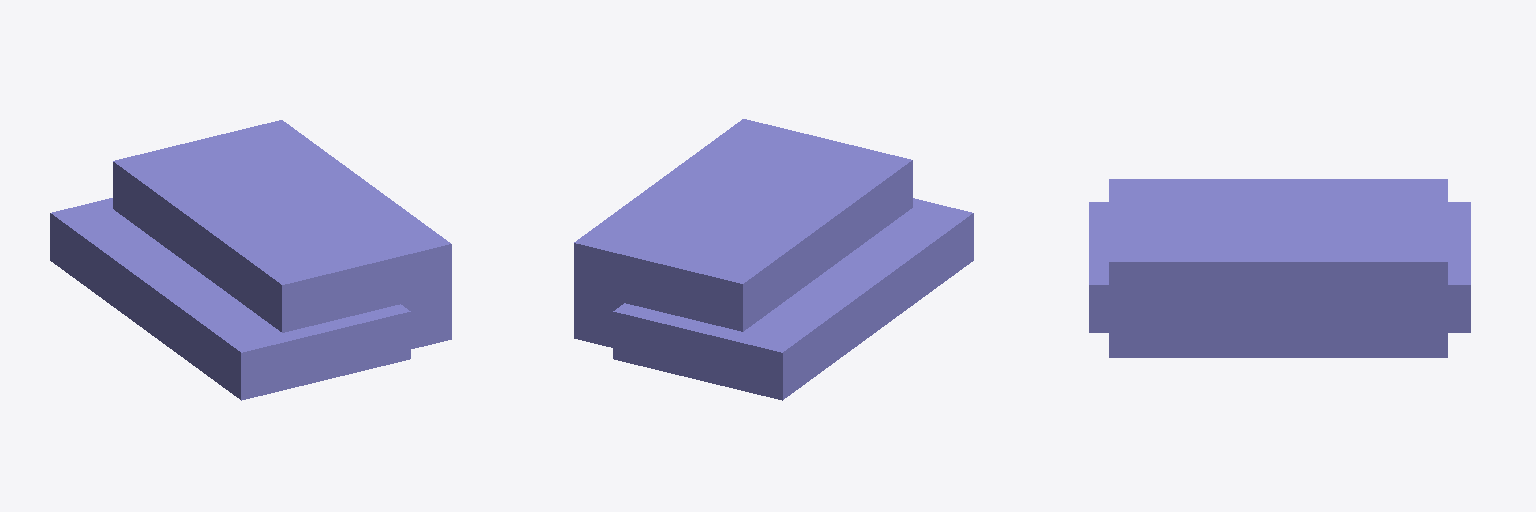
Rendered from steps.obj.
3 views of the same model, side by side, from view 1: azimuth 30°, elevation 25°; view 2: azimuth 150°, elevation 25°; view 3: azimuth 270°, elevation 25° (orthographic).
Parts seen in each view (by area): view 1: steps; view 2: steps; view 3: steps.
Part boxes in pixels (x1,y1,x2,y2): steps: (50,120,451,400); steps: (574,119,973,400); steps: (1089,179,1470,357).
Size of the model in its own units: 32.72 by 13.59 by 49.19.